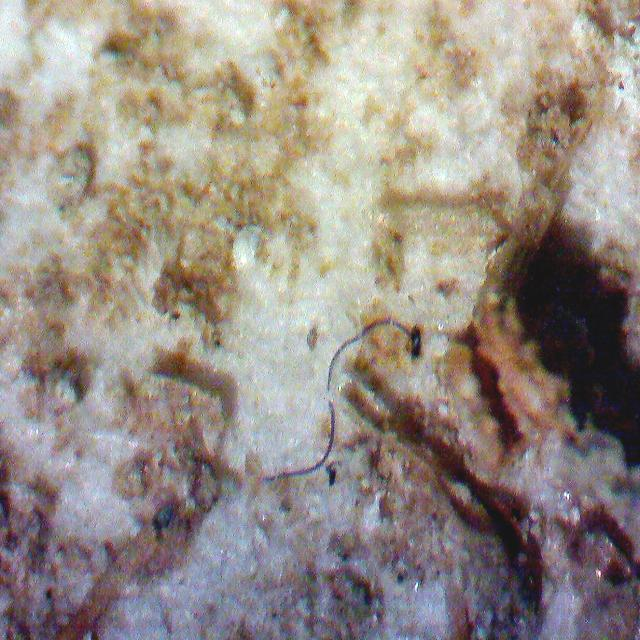microplastic: (266, 318, 412, 484)
